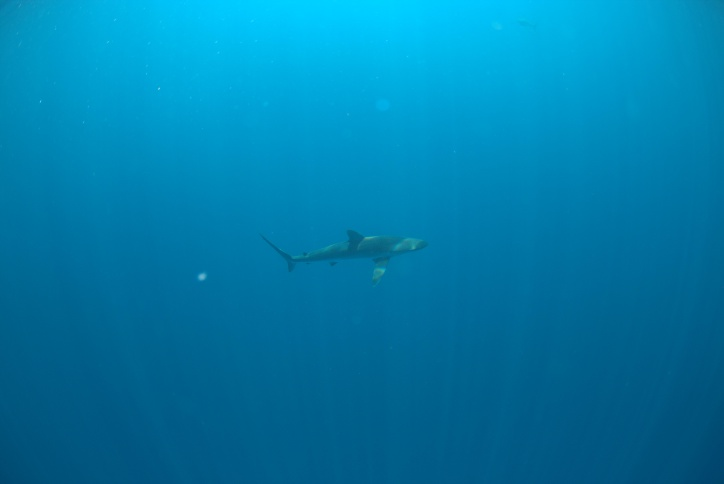Sedoso: (232, 213, 441, 289)
